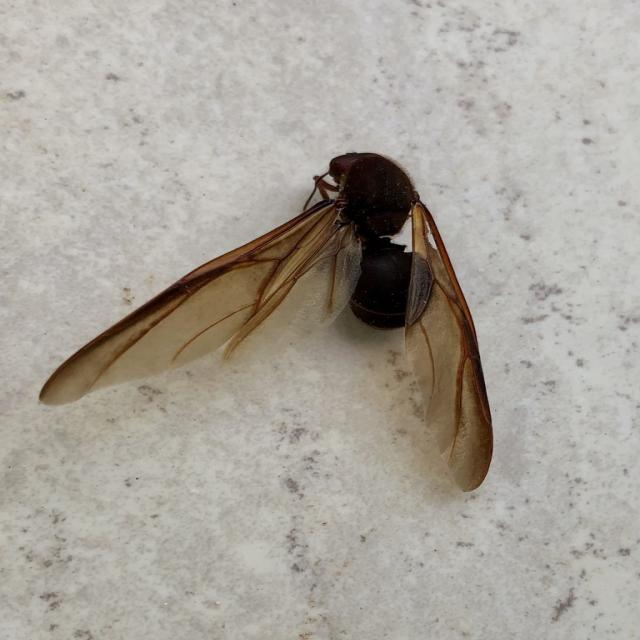Dead-Male-Alate: (37, 150, 495, 493)
